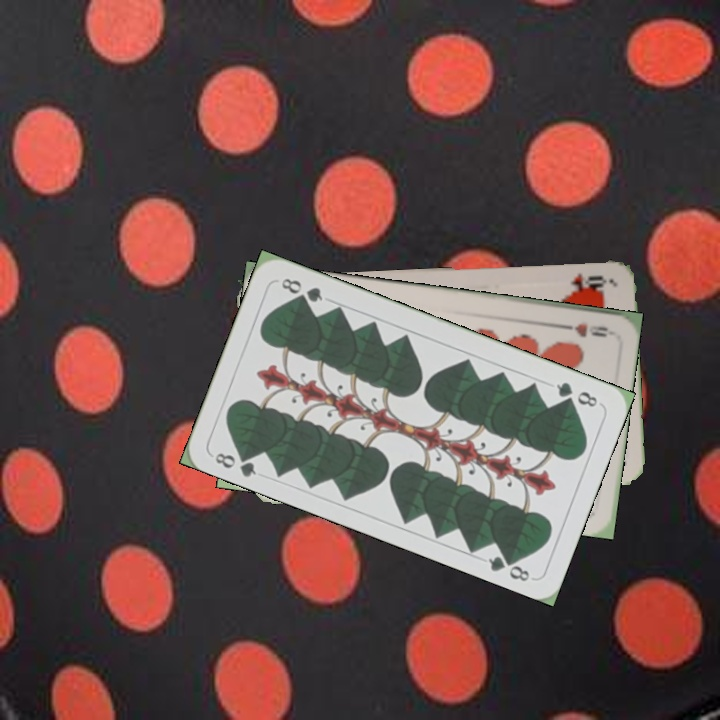G8: (552, 378, 603, 410), (211, 447, 259, 480)
H9: (555, 318, 610, 340)
HO: (566, 270, 610, 295)
